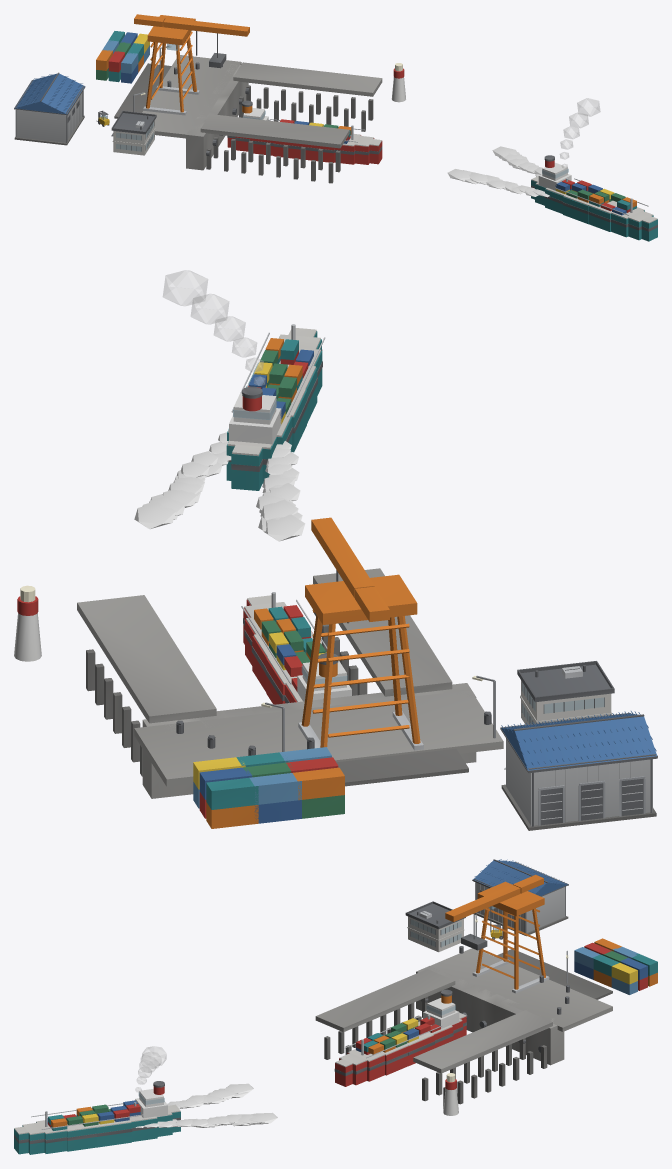
File: Port_P2.fbx
The picture shows the model from 3 angles, top to bottom: view 1: azimuth 30°, elevation 25°; view 2: azimuth 150°, elevation 25°; view 3: azimuth 270°, elevation 25°; orthographic projection. The views are drawn at different scales.
Parts seen in each view (by area): view 1: Port.ShipOut, Port.Apron, Port.Pier0, Port.Pier1, Port.Shed, Port.Crane0, Port.Ship0, Port.QuayWall, Port.Containers, Port.Control, Port.Wake, Port.ShipSmoke (+1 smaller); view 2: Port.Apron, Port.Shed, Port.Crane0, Port.Pier1, Port.ShipOut, Port.Containers, Port.Ship0, Port.Wake, Port.Pier0, Port.Control, Port.ShipSmoke, Port.QuayWall (+1 smaller); view 3: Port.Apron, Port.ShipOut, Port.Ship0, Port.Pier1, Port.Crane0, Port.Pier0, Port.QuayWall, Port.Shed, Port.Containers, Port.Wake, Port.Control, Port.ShipSmoke (+1 smaller).
Part boxes in pixels (<box>): Port.ShipOut: <box>531,155,657,241</box>; Port.Apron: <box>114,55,241,138</box>; Port.Pier0: <box>200,114,349,183</box>; Port.Pier1: <box>233,62,382,131</box>; Port.Shed: <box>14,72,85,145</box>; Port.Crane0: <box>134,14,249,115</box>; Port.Ship0: <box>227,100,382,164</box>; Port.QuayWall: <box>186,64,249,170</box>; Port.Containers: <box>96,31,149,83</box>; Port.Control: <box>111,111,156,155</box>; Port.Wake: <box>447,146,549,197</box>; Port.ShipSmoke: <box>560,98,600,168</box>; Port.Apron: <box>134,690,503,786</box>; Port.Shed: <box>500,711,657,830</box>; Port.Crane0: <box>298,517,423,750</box>; Port.Pier1: <box>77,595,216,776</box>; Port.ShipOut: <box>226,324,325,490</box>; Port.Containers: <box>193,747,344,828</box>; Port.Ship0: <box>241,592,351,704</box>; Port.Wake: <box>134,432,305,541</box>; Port.Pier0: <box>313,568,452,696</box>; Port.Control: <box>517,661,614,724</box>; Port.ShipSmoke: <box>163,270,265,385</box>; Port.QuayWall: <box>142,683,476,798</box>; Port.Apron: <box>424,948,612,1031</box>; Port.ShipOut: <box>14,1081,180,1154</box>; Port.Ship0: <box>334,989,466,1086</box>; Port.Pier1: <box>413,1010,552,1108</box>; Port.Crane0: <box>445,874,549,993</box>; Port.Pier0: <box>315,969,455,1059</box>; Port.QuayWall: <box>416,966,564,1065</box>; Port.Shed: <box>472,859,568,936</box>; Port.Containers: <box>574,938,657,994</box>; Port.Wake: <box>135,1083,277,1128</box>; Port.Control: <box>405,901,465,952</box>; Port.ShipSmoke: <box>135,1046,166,1092</box>.
Bounding box in the file's own units: 13425 × 3630 × 16308.
